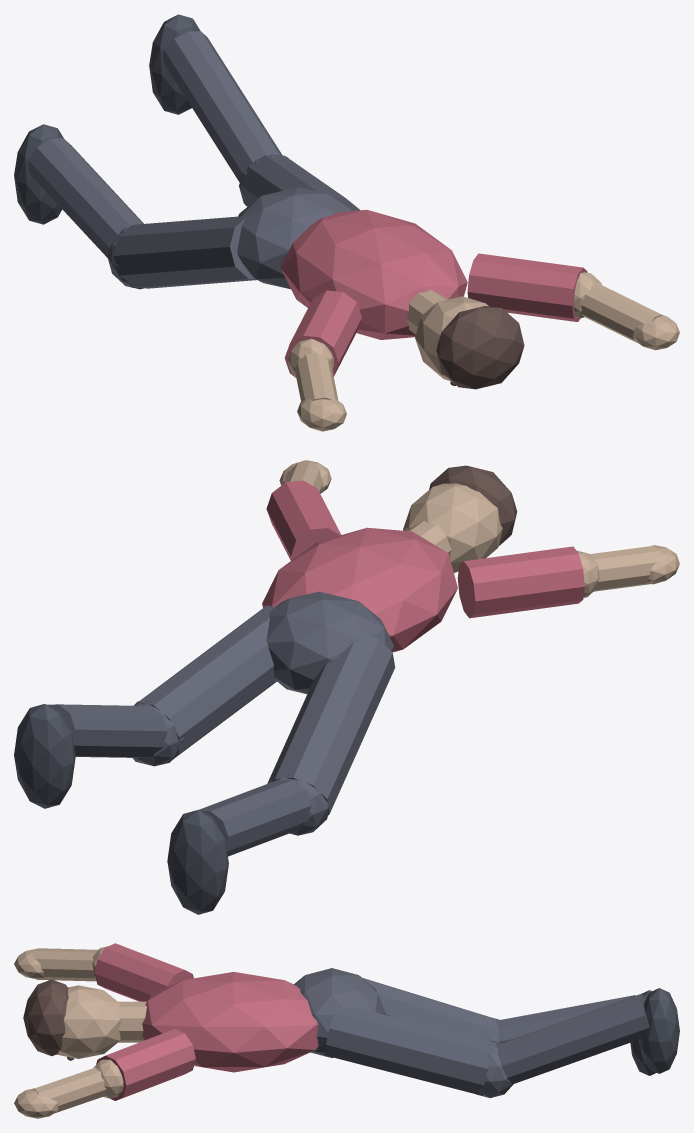
The picture shows the model from 3 angles, top to bottom: view 1: azimuth 30°, elevation 25°; view 2: azimuth 150°, elevation 25°; view 3: azimuth 270°, elevation 25°; orthographic projection. The views are drawn at different scales.
Visible parts, largest first — view 1: world; view 2: world; view 3: world.
Part boxes in pixels (left/top/right/bottom): world: left=14, top=14, right=679, bottom=431; world: left=14, top=460, right=679, bottom=914; world: left=14, top=943, right=679, bottom=1118.
Size of the model in its own units: 1.17 by 0.5125 by 2.1.
